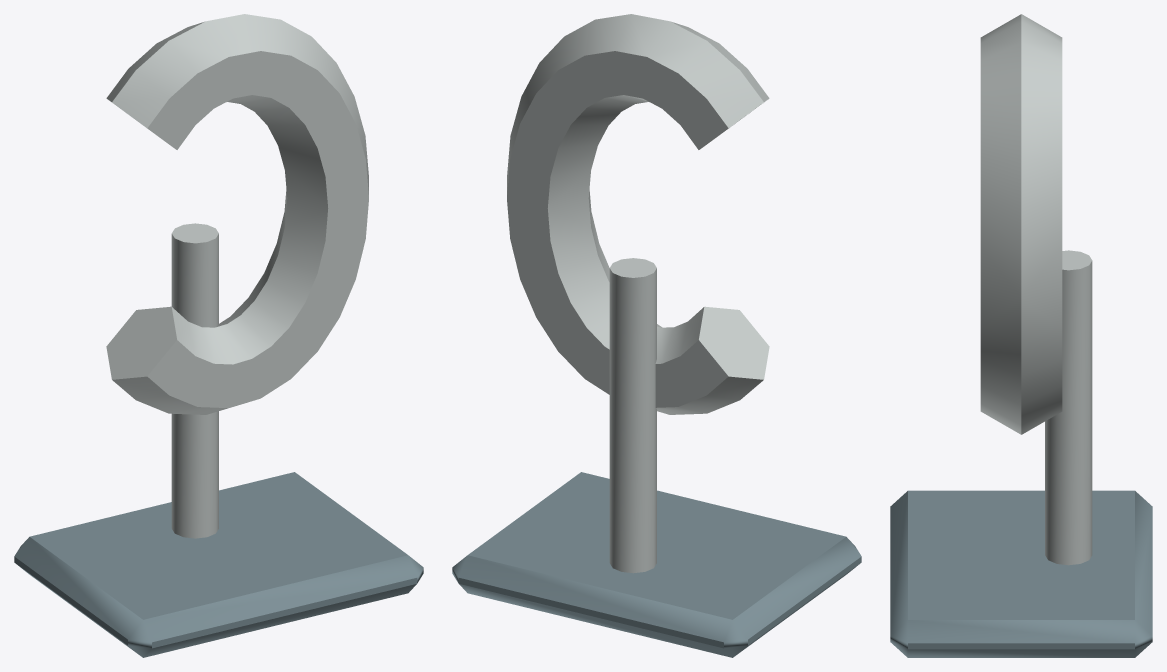
The model's file is watch-stand.glb.
The picture shows the model from 3 angles, left to right: view 1: azimuth 30°, elevation 25°; view 2: azimuth 150°, elevation 25°; view 3: azimuth 270°, elevation 25°; orthographic projection.
Parts seen in each view (by area): view 1: curved_display_cushion, stand_base, stand_stem; view 2: curved_display_cushion, stand_base, stand_stem; view 3: stand_base, curved_display_cushion, stand_stem.
Boxes of the visible parts, <box> form: curved_display_cushion: <box>106,14,368,414</box>; stand_base: <box>14,472,423,657</box>; stand_stem: <box>171,223,218,538</box>; curved_display_cushion: <box>507,14,769,414</box>; stand_base: <box>452,472,861,657</box>; stand_stem: <box>609,258,656,573</box>; stand_base: <box>890,490,1152,657</box>; curved_display_cushion: <box>980,14,1062,434</box>; stand_stem: <box>1045,250,1092,565</box>.
Size of the model in its own units: 0.131 by 0.2377 by 0.1.
